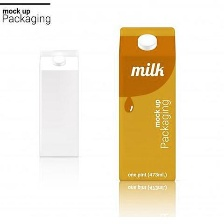carton: (112, 18, 186, 182), (35, 44, 86, 162)
